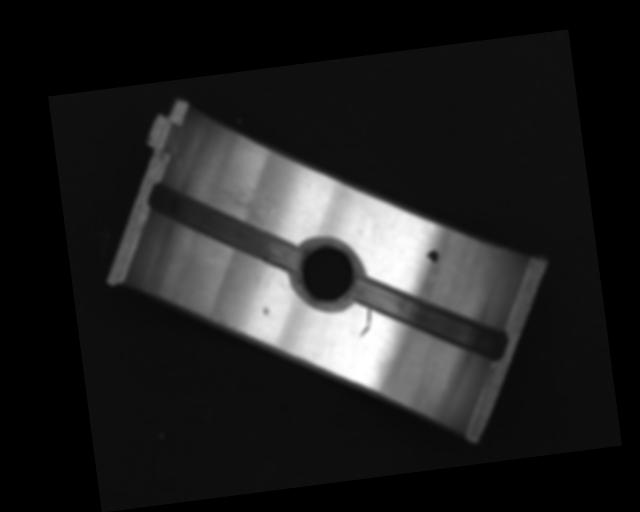blot: (425, 250, 440, 266)
bruise: (261, 305, 270, 316)
gap: (147, 167, 302, 288), (356, 263, 507, 374)
hole: (289, 238, 365, 312)
nick: (356, 307, 374, 337)
scratch: (202, 172, 275, 236)
